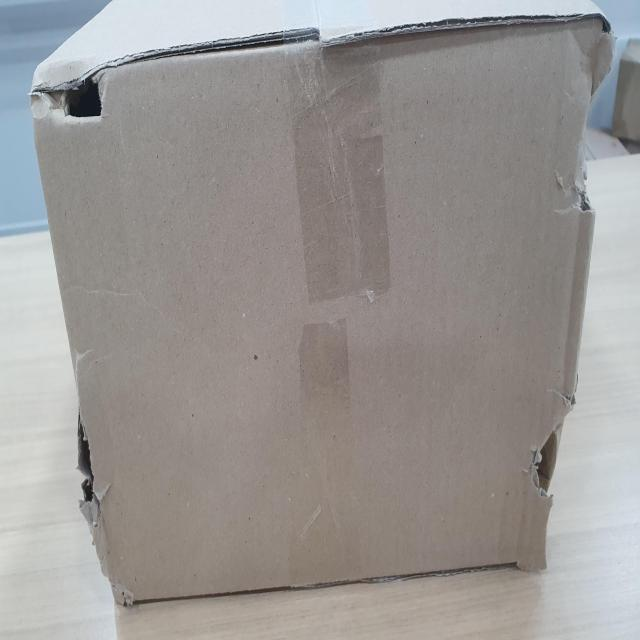damaged: (39, 62, 130, 139), (69, 412, 123, 532)
